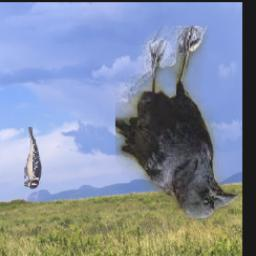Crow: (114, 27, 239, 219)
Woodpecker: (24, 127, 43, 189)
